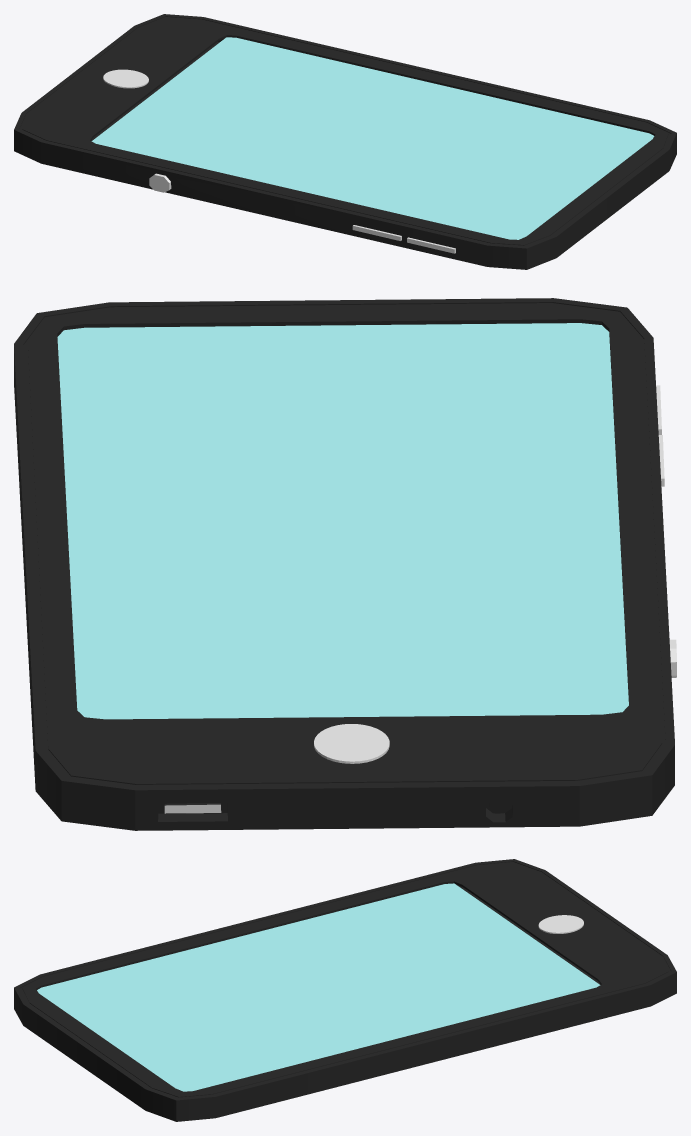
File: Tablet.glb
3 renders of one model, top to bottom at view 1: azimuth 30°, elevation 25°; view 2: azimuth 150°, elevation 25°; view 3: azimuth 270°, elevation 25°, orthographic. The views are drawn at different scales.
Visible parts, largest first — view 1: node-0; view 2: node-0; view 3: node-0.
Part boxes in pixels (left/top/right/bottom): node-0: left=14, top=14, right=676, bottom=269; node-0: left=14, top=298, right=676, bottom=830; node-0: left=14, top=859, right=676, bottom=1121.
Size of the model in its own units: 763 by 33.44 by 886.
